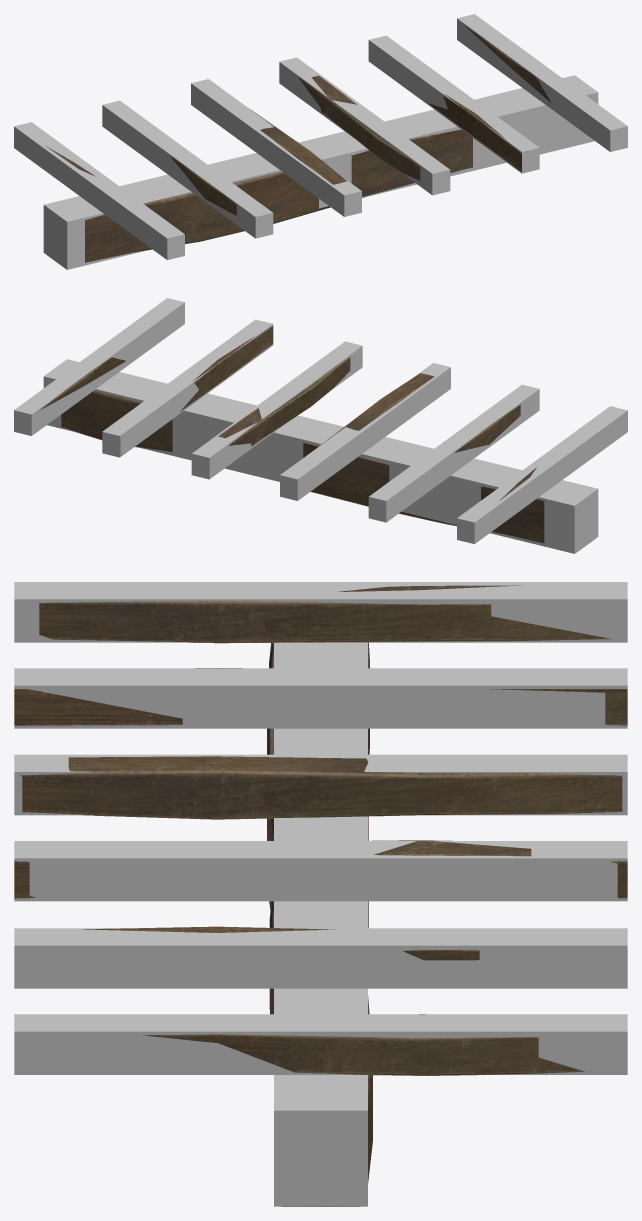
The model's file is SM_WoodenBeam_02a.fbx.
The picture shows the model from 3 angles, top to bottom: view 1: azimuth 30°, elevation 25°; view 2: azimuth 150°, elevation 25°; view 3: azimuth 270°, elevation 25°; orthographic projection. The views are drawn at different scales.
Parts seen in each view (by area): view 1: SM_WoodenBeam_02a_ConvexHulls, SM_WoodenBeam_02a; view 2: SM_WoodenBeam_02a_ConvexHulls, SM_WoodenBeam_02a; view 3: SM_WoodenBeam_02a_ConvexHulls, SM_WoodenBeam_02a.
Part boxes in pixels (box(x1,y1,x2,y2)): SM_WoodenBeam_02a_ConvexHulls: box(14, 14, 627, 269); SM_WoodenBeam_02a: box(46, 26, 551, 262); SM_WoodenBeam_02a_ConvexHulls: box(14, 298, 627, 553); SM_WoodenBeam_02a: box(39, 326, 591, 543); SM_WoodenBeam_02a_ConvexHulls: box(14, 582, 627, 1206); SM_WoodenBeam_02a: box(14, 585, 627, 1206).
Size of the model in its own units: 300 by 150 by 41.02.
